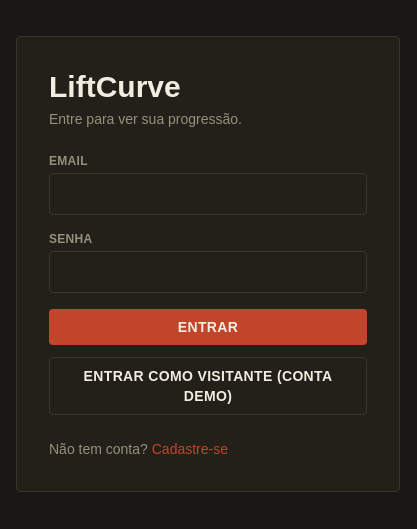
Test: LoginPage › shows a validation message when submitting empty fields
Click the button "Entrar" at (208, 327), box 49,309 -> 367,345
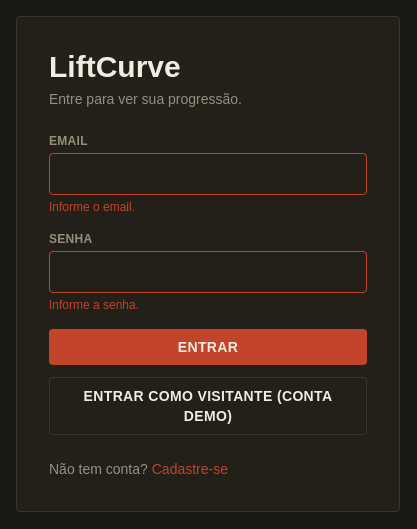
Expected: the text "Informe o email." is shown, 49,200 -> 135,214
